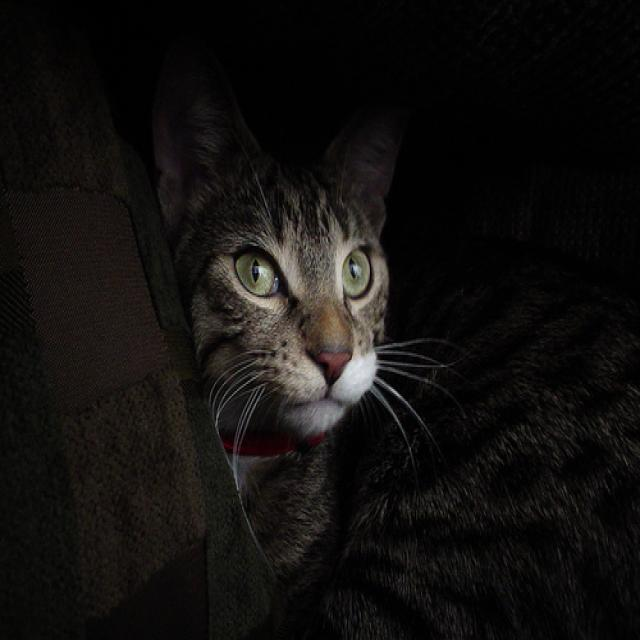left eye: (339, 242, 374, 299)
